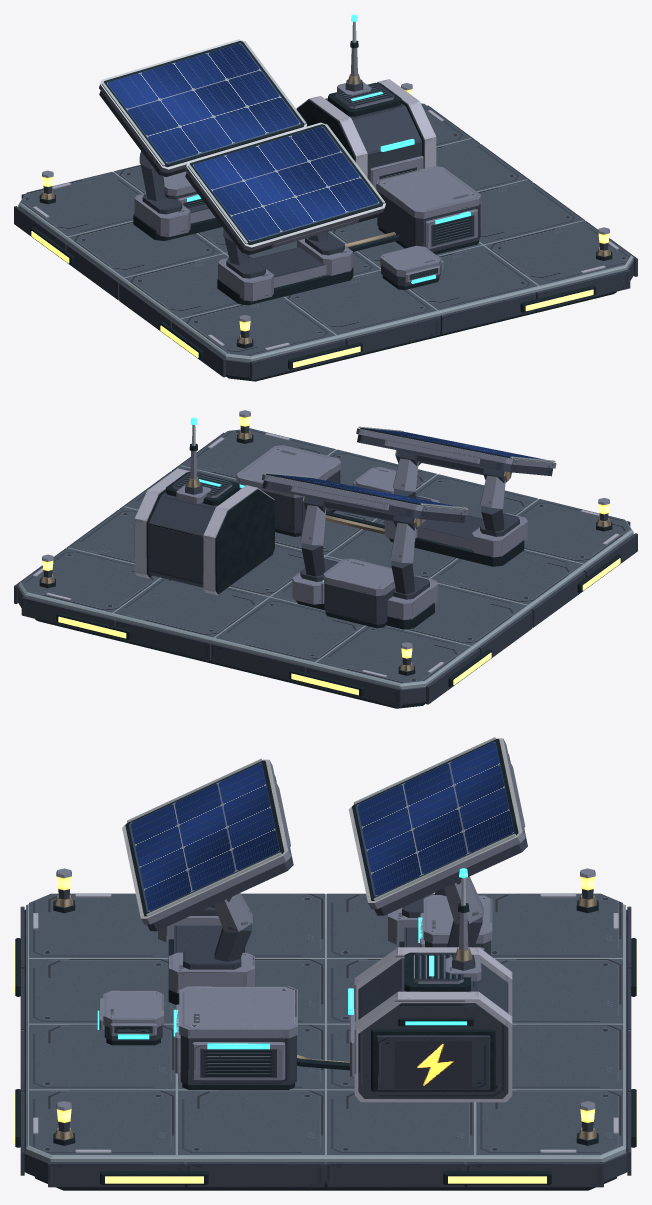
File: PS01_PlantaSolarBasica_Distancia.fbx
3 renders of one model, top to bottom at view 1: azimuth 30°, elevation 25°; view 2: azimuth 150°, elevation 25°; view 3: azimuth 270°, elevation 25°, orthographic. The views are drawn at different scales.
Parts seen in each view (by area): view 1: PlantaSolarDistante_1; view 2: PlantaSolarDistante_1; view 3: PlantaSolarDistante_1.
Part boxes in pixels (x1,y1,x2,y2): PlantaSolarDistante_1: (14, 14, 637, 381); PlantaSolarDistante_1: (14, 410, 637, 708); PlantaSolarDistante_1: (14, 737, 637, 1190).
Size of the model in its own units: 5.8 by 2.42 by 5.58.
